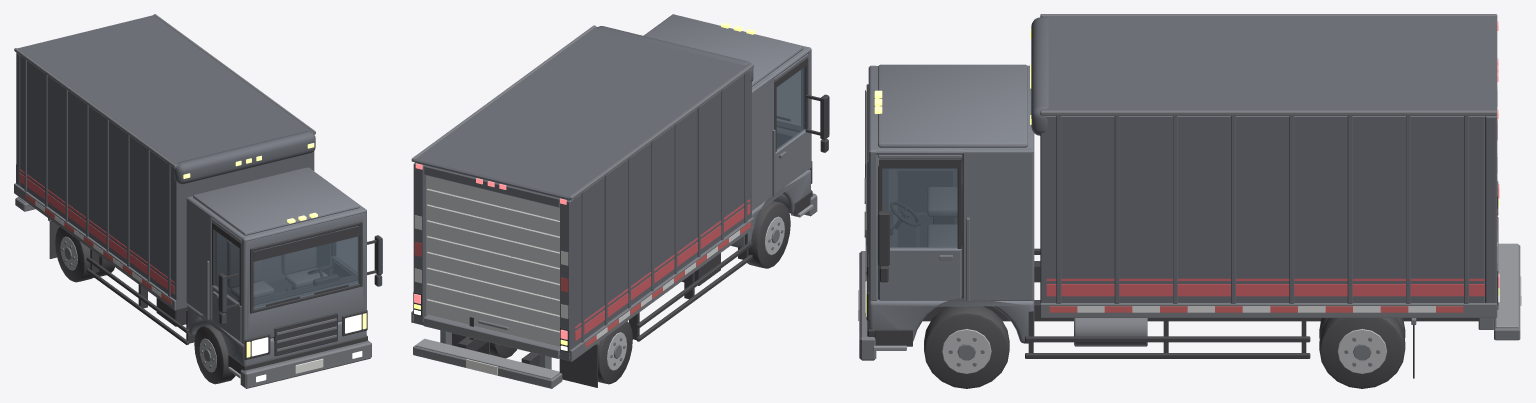
The model's file is delivery-truck.glb.
3 renders of one model, left to right at view 1: azimuth 30°, elevation 25°; view 2: azimuth 150°, elevation 25°; view 3: azimuth 270°, elevation 25°, orthographic. The views are drawn at different scales.
Visible parts, largest first — view 1: Body__Body, Body__Cab, Body__Black, Body__Trim, Body__Glass, Body__Seat, Body__Red, DoorRight__Glass, WheelFrontRight__Rubber, WheelRearRight__Rubber, DoorRight__Cab, Body__LightHead (+7 smaller); view 2: Body__Body, Body__Cab, Body__Trim, Body__Black, Slat_3__Slat, Slat_2__Slat, Slat_6__Slat, Slat_4__Slat, Slat_5__Slat, Slat_7__Slat, Slat_8__Slat, Body__Red (+15 smaller); view 3: Body__Body, Body__Cab, Body__Trim, Body__Black, Body__Red, DoorLeft__Glass, WheelFrontLeft__Rubber, DoorLeft__Cab, WheelRearLeft__Rubber, Body__Rail, Body__Seat, Body__TapeRed (+5 smaller).
Part boxes in pixels (<box>): Body__Body: <box>16,15,315,309</box>; Body__Cab: <box>186,167,366,365</box>; Body__Black: <box>16,164,382,373</box>; Body__Trim: <box>14,14,371,388</box>; Body__Glass: <box>222,226,382,323</box>; Body__Seat: <box>227,236,327,299</box>; Body__Red: <box>19,169,174,293</box>; DoorRight__Glass: <box>214,230,239,303</box>; WheelFrontRight__Rubber: <box>194,324,235,384</box>; WheelRearRight__Rubber: <box>55,227,114,282</box>; DoorRight__Cab: <box>212,285,241,342</box>; Body__LightHead: <box>251,314,362,382</box>; Body__Body: <box>413,26,753,360</box>; Body__Cab: <box>643,14,811,247</box>; Body__Trim: <box>411,25,817,388</box>; Body__Black: <box>413,94,829,366</box>; Slat_3__Slat: <box>427,267,559,315</box>; Slat_2__Slat: <box>427,283,559,331</box>; Slat_6__Slat: <box>427,220,559,267</box>; Slat_4__Slat: <box>427,252,559,299</box>; Slat_5__Slat: <box>427,236,559,283</box>; Slat_7__Slat: <box>427,204,559,252</box>; Slat_8__Slat: <box>427,189,559,236</box>; Body__Red: <box>575,199,750,341</box>; Body__Body: <box>1031,16,1497,303</box>; Body__Cab: <box>868,64,1034,343</box>; Body__Trim: <box>859,14,1520,360</box>; Body__Black: <box>864,84,1498,358</box>; Body__Red: <box>1046,278,1484,296</box>; DoorLeft__Glass: <box>882,168,957,248</box>; WheelFrontLeft__Rubber: <box>924,306,1009,388</box>; DoorLeft__Cab: <box>878,247,961,300</box>; WheelRearLeft__Rubber: <box>1319,318,1405,388</box>; Body__Rail: <box>873,243,1518,350</box>; Body__Seat: <box>927,158,962,246</box>; Body__TapeRed: <box>1049,119,1497,312</box>.
Size of the model in its own units: 0.086 by 0.1024 by 0.2164.
